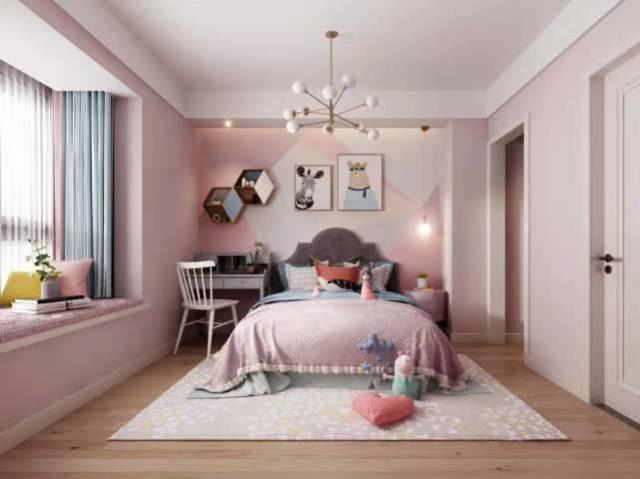床: (196, 294, 447, 405)
枕头: (4, 259, 92, 303), (344, 391, 421, 429), (311, 263, 364, 296)
灯: (283, 32, 382, 147), (221, 120, 234, 129)
